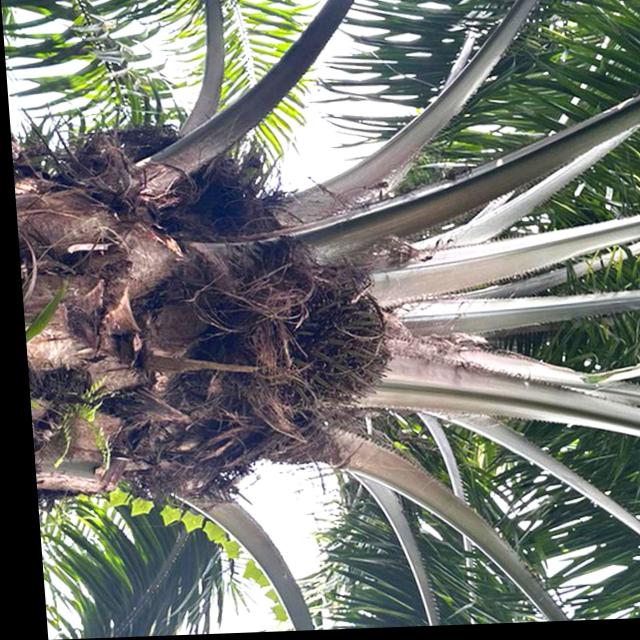unripe: (242, 268, 395, 414), (129, 144, 285, 254)
